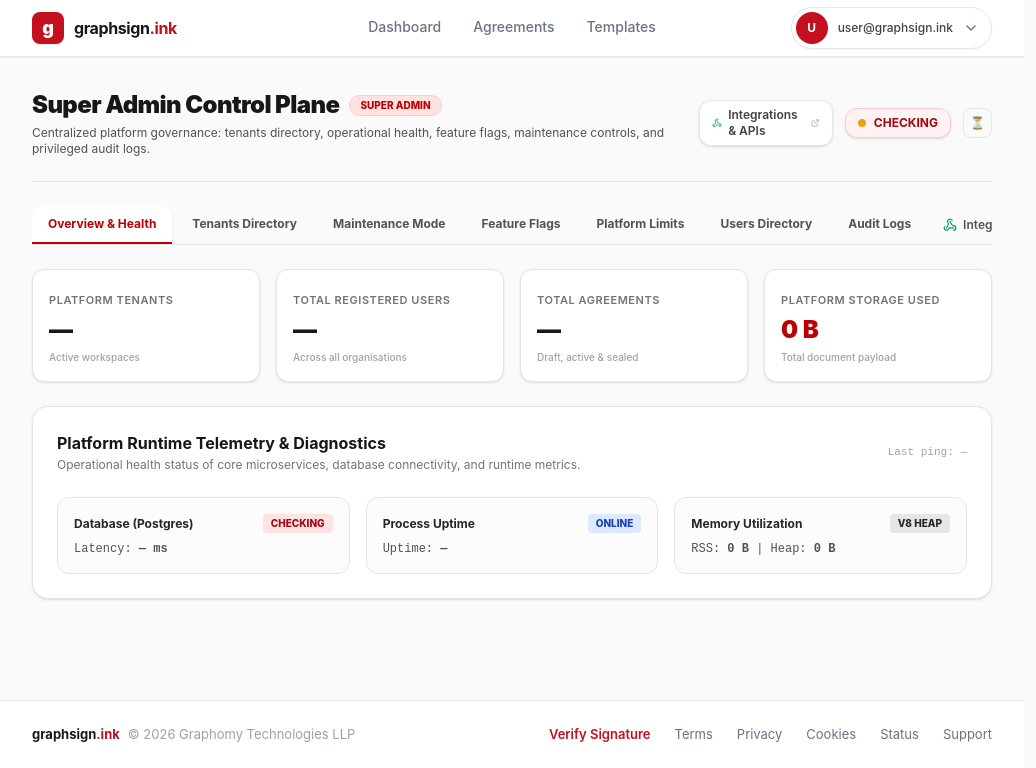
Test: AdminDashboardPage Control Plane Unit Tests (FR-015 / INK-287) › navigates to Tenants Directory and displays tenant details
Click the button "Tenants Directory": (245, 225) [176,206,313,244]
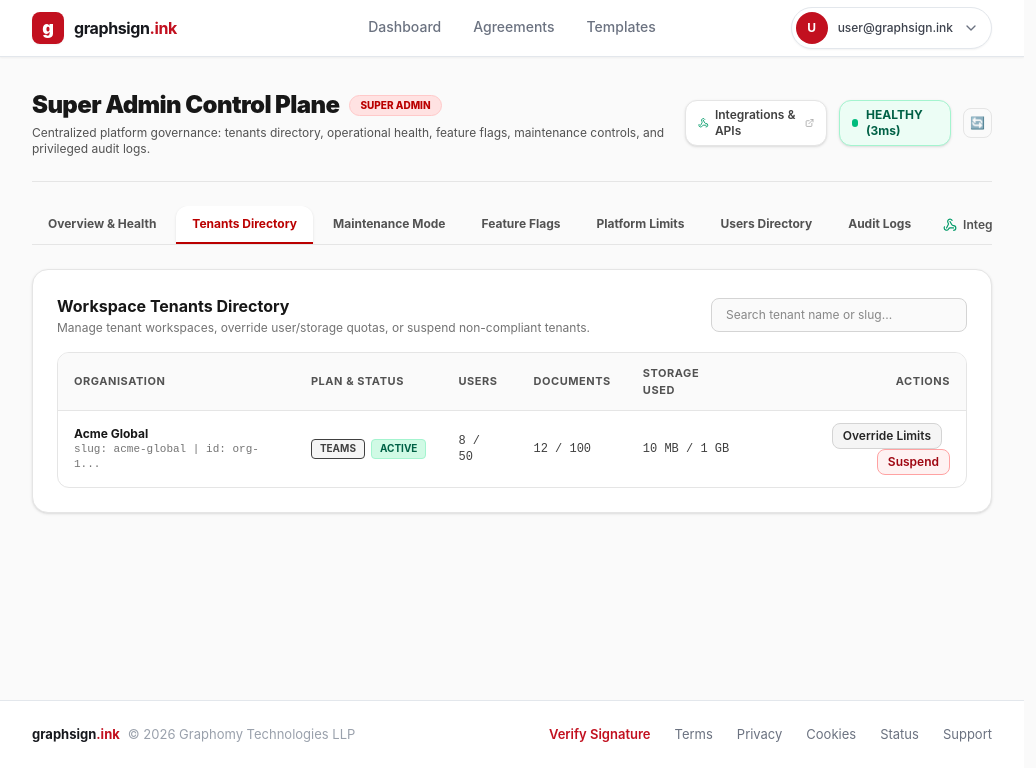
Expected: the heading "Workspace Tenants Directory" is shown, [57,296,289,316]
Expected: the text "Acme Global" is shown, [74,426,148,441]
Expected: the button "Override Limits" is shown, [832,423,942,449]
